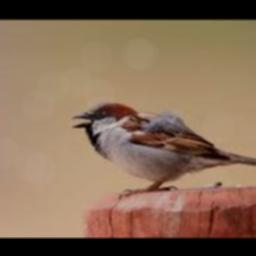Sparrow: (70, 101, 256, 198)
